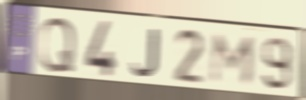2: (173, 28, 206, 86)
4: (83, 18, 119, 80)
9: (260, 36, 294, 93)
J: (130, 27, 160, 79)
M: (208, 31, 258, 87)
Q: (38, 15, 77, 74)
